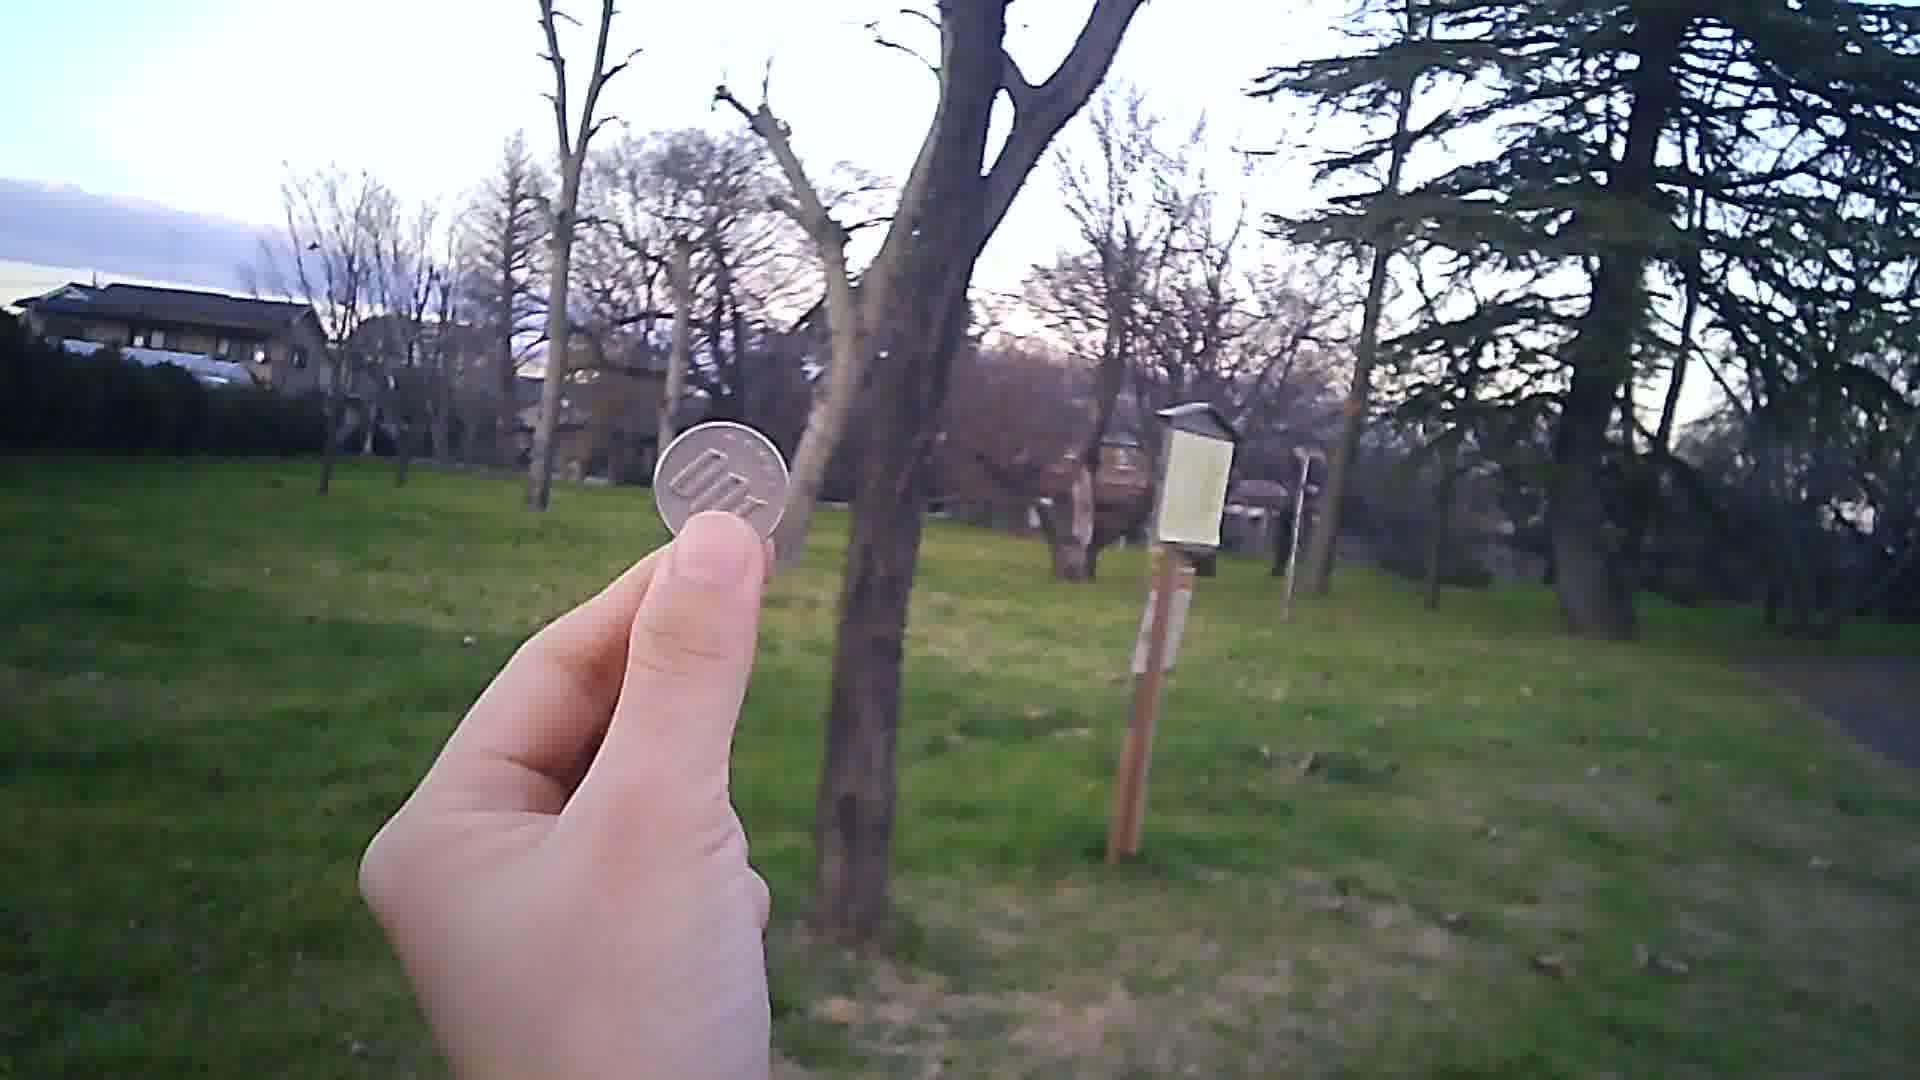100 Yen: (647, 422, 791, 553)
